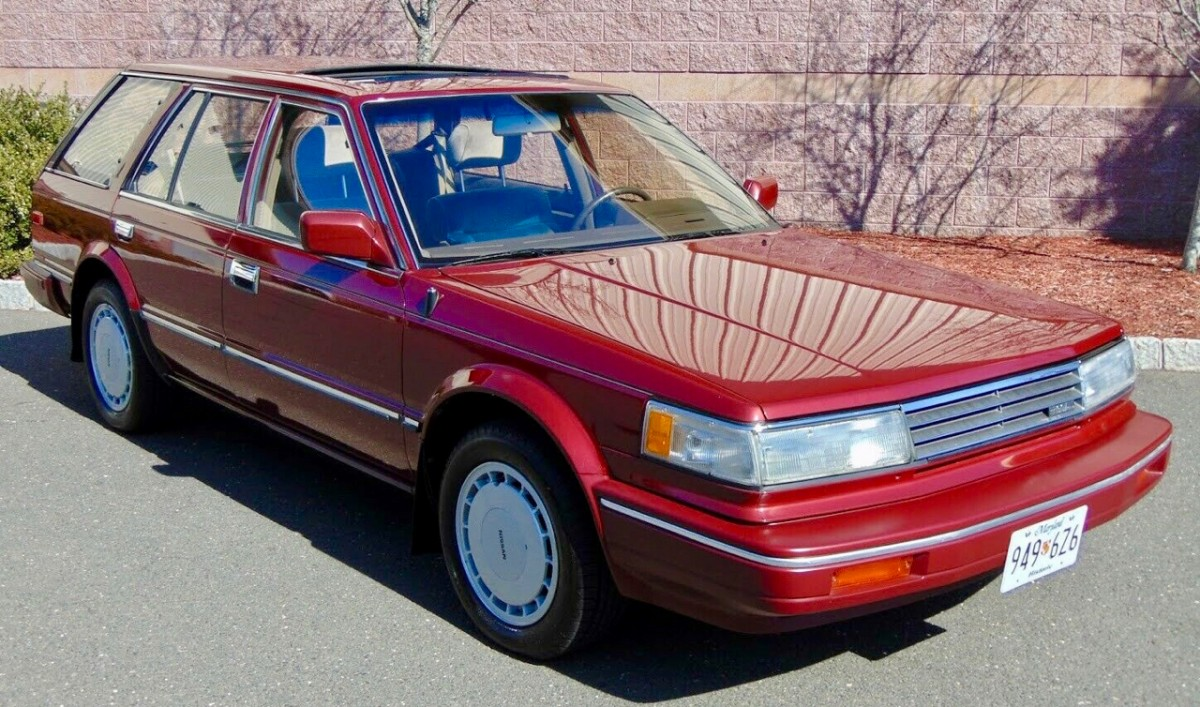car: (21, 61, 1173, 668)
